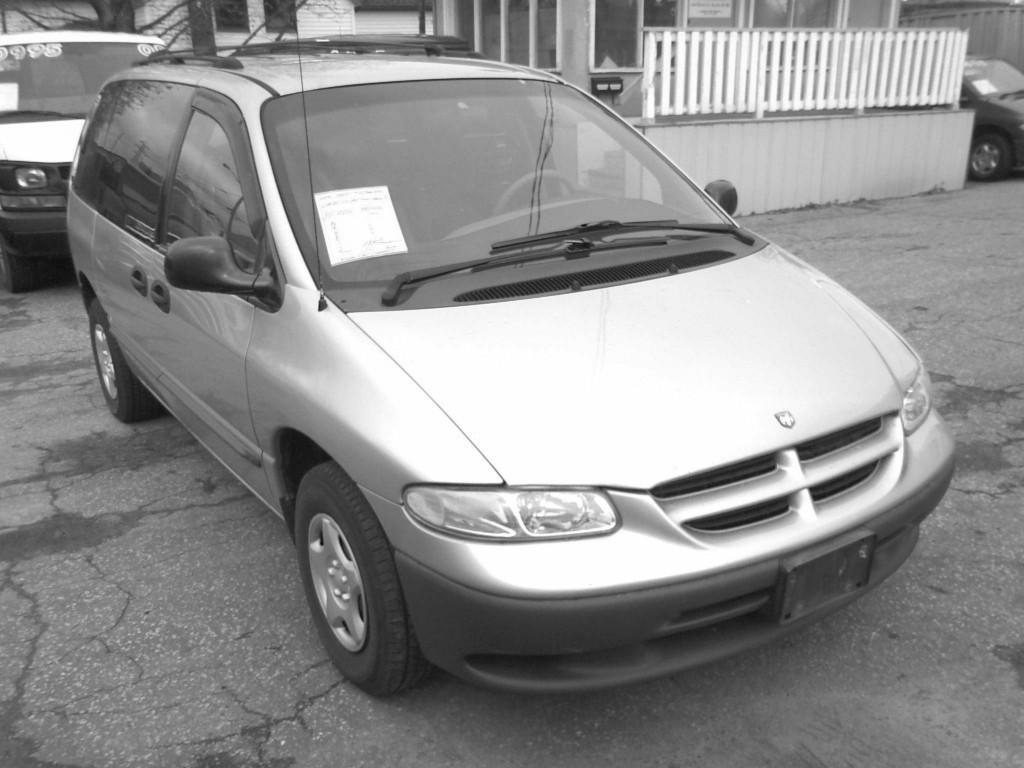car: (66, 49, 959, 706)
